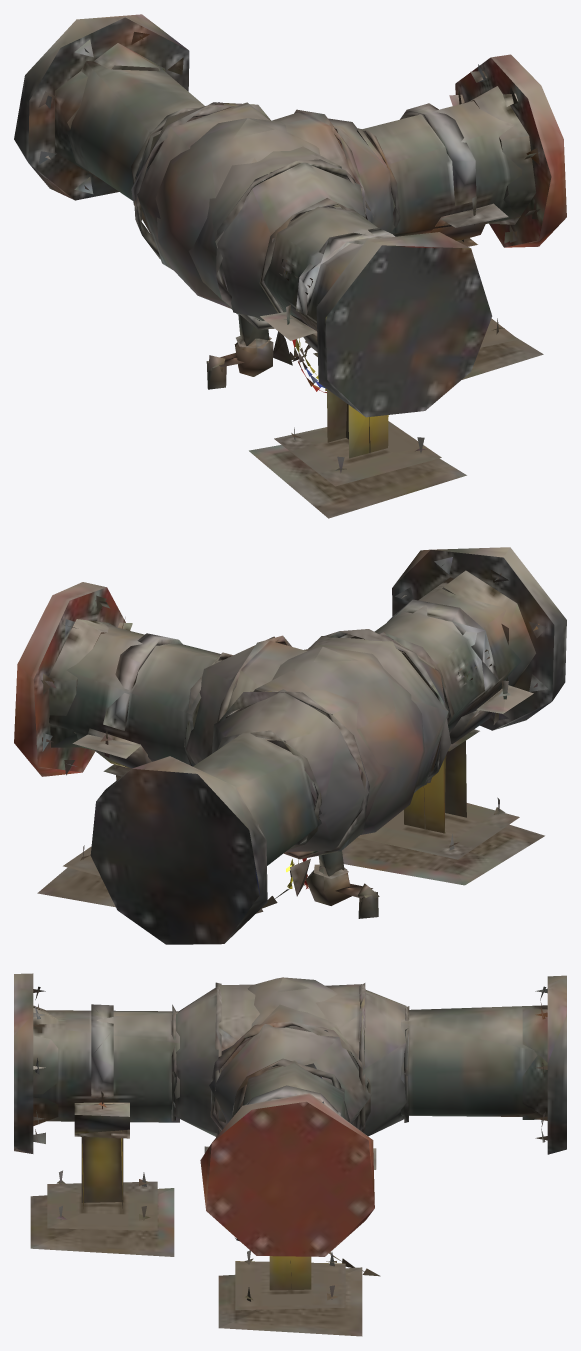
Rendered from cano_t.glb.
The picture shows the model from 3 angles, top to bottom: view 1: azimuth 30°, elevation 25°; view 2: azimuth 150°, elevation 25°; view 3: azimuth 270°, elevation 25°; orthographic projection. The views are drawn at different scales.
Visible parts, largest first — view 1: cano_t_corpo; view 2: cano_t_corpo; view 3: cano_t_corpo.
Boxes of the visible parts, x1,y1,x2,y2 form: cano_t_corpo: [14, 14, 566, 518]; cano_t_corpo: [14, 547, 566, 944]; cano_t_corpo: [14, 973, 566, 1336].
Size of the model in its own units: 0.6604 by 0.4921 by 1.
2 materials, 1 textured.
